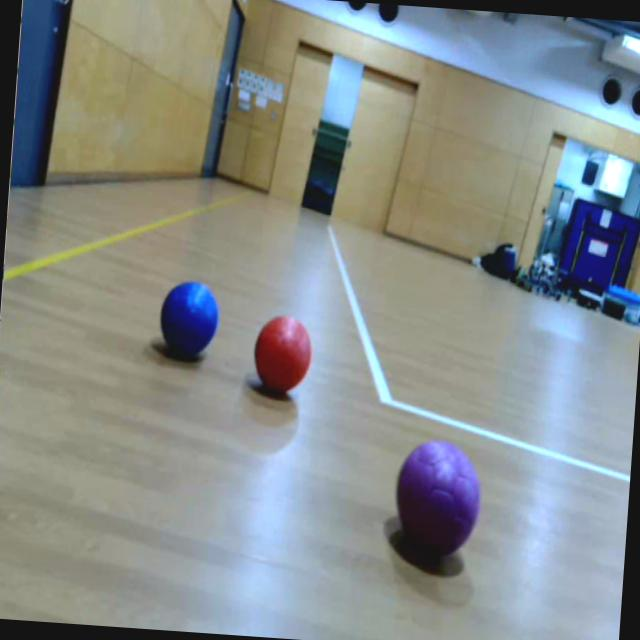blue_ball: (158, 278, 222, 358)
purple_ball: (391, 436, 485, 556)
red_ball: (252, 312, 316, 398)
